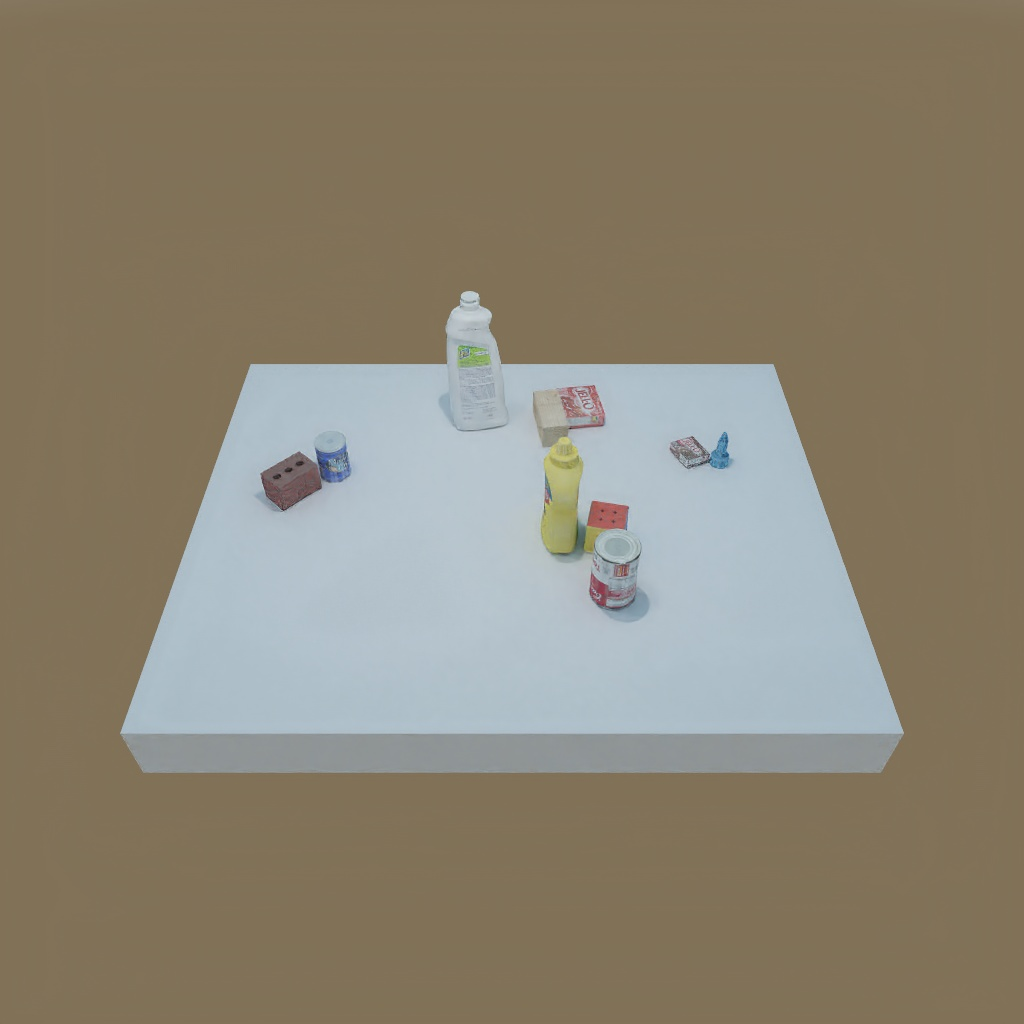gelatin_box: (557, 381, 608, 436)
master_chef_can: (310, 428, 356, 485)
mustard_bottle: (539, 438, 583, 555)
pudding_box: (666, 434, 710, 471)
rubiks_cube: (581, 499, 636, 555)
tomato_soup_can: (591, 528, 645, 609)
wood_block: (526, 388, 573, 445)
